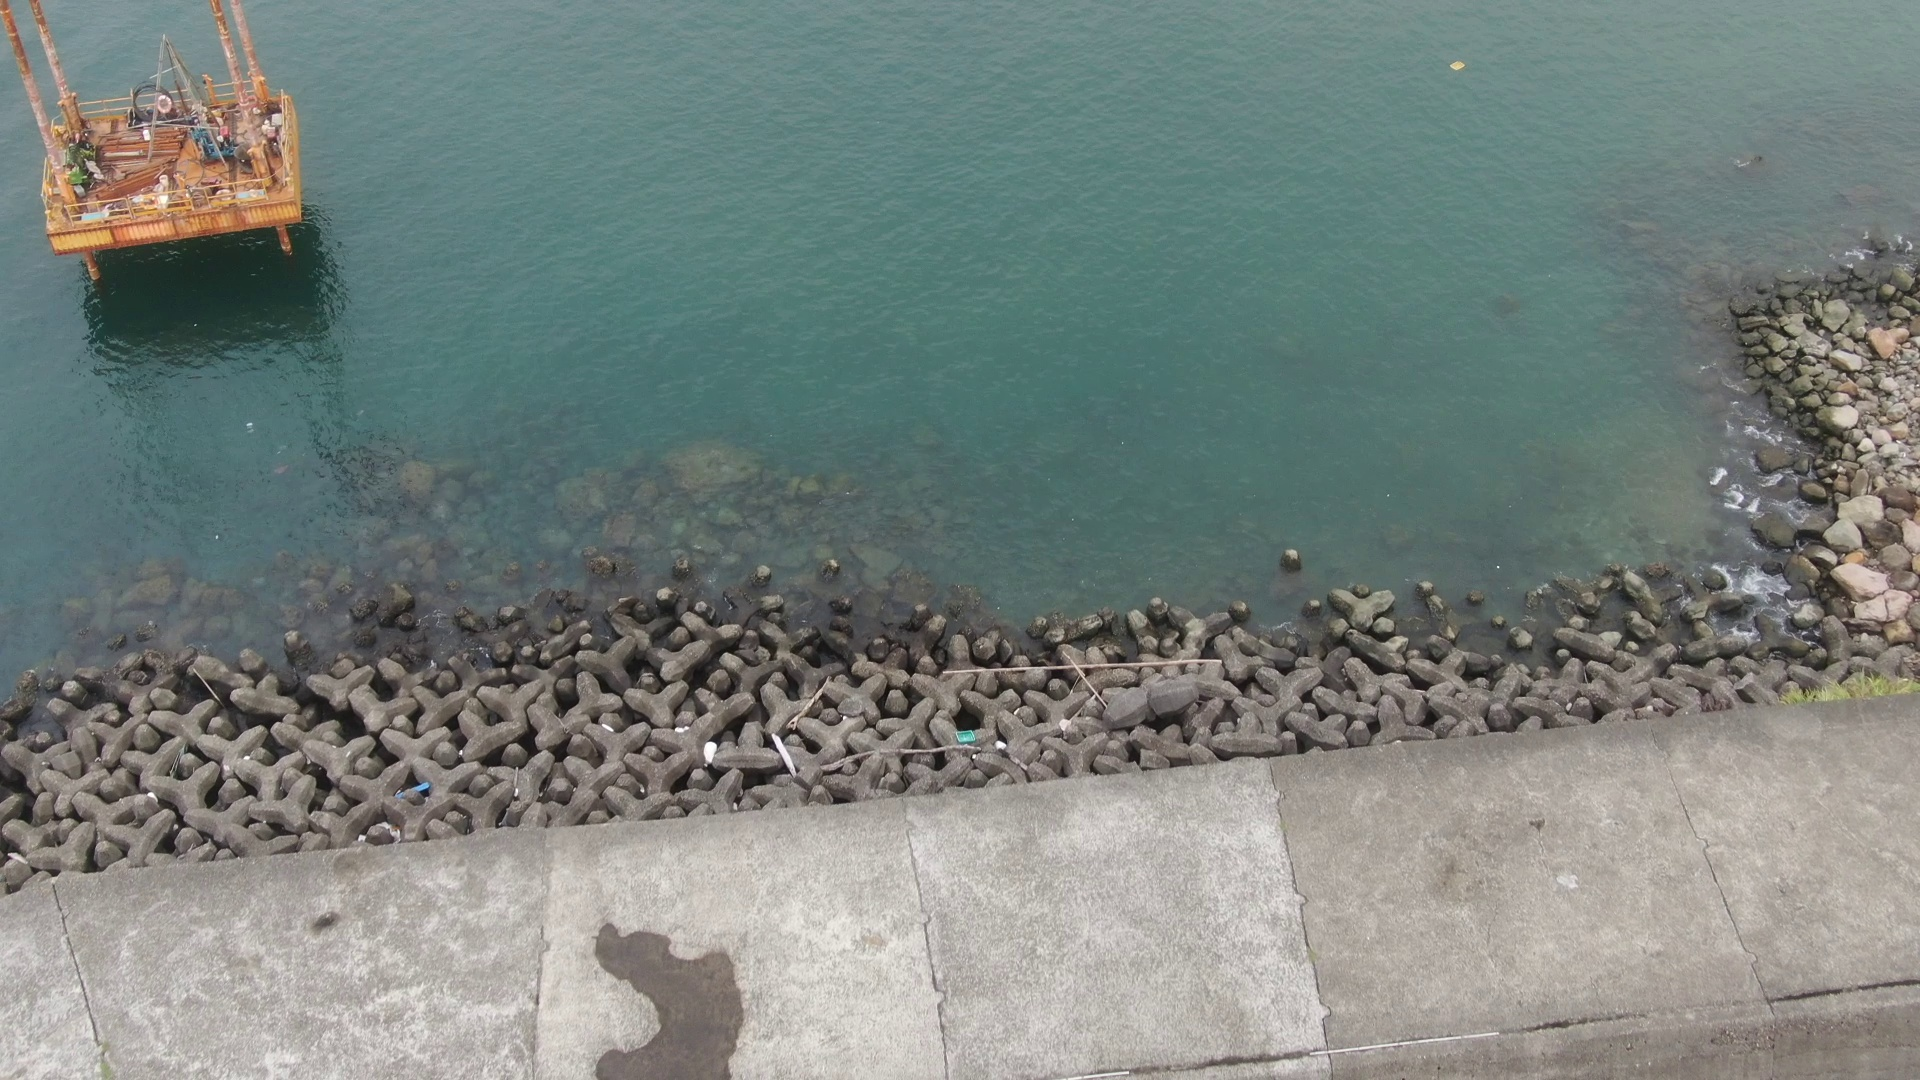garbage: (402, 775, 450, 811), (945, 717, 989, 752), (694, 738, 731, 777), (1445, 49, 1473, 80)
